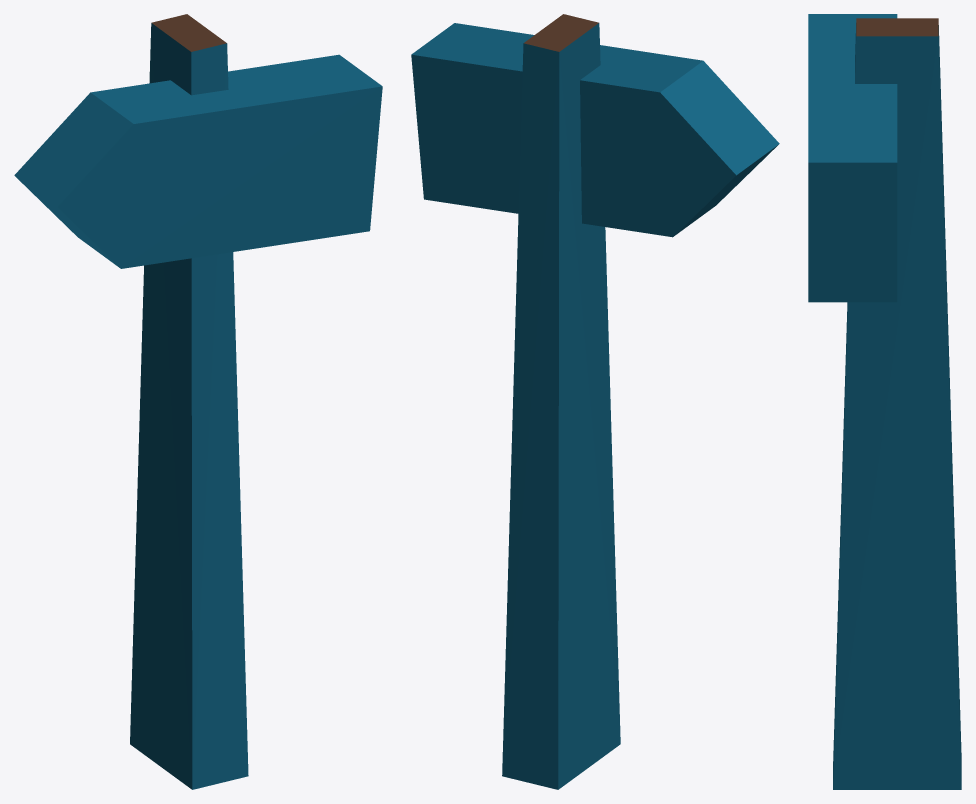
The model's file is dock-sign-sky.glb.
The picture shows the model from 3 angles, left to right: view 1: azimuth 30°, elevation 25°; view 2: azimuth 150°, elevation 25°; view 3: azimuth 270°, elevation 25°; orthographic projection. The views are drawn at different scales.
Parts seen in each view (by area): view 1: dock-sign-sky; view 2: dock-sign-sky; view 3: dock-sign-sky.
Boxes of the visible parts, x1,y1,x2,y2 form: dock-sign-sky: (14, 14, 382, 789); dock-sign-sky: (411, 14, 779, 789); dock-sign-sky: (808, 14, 961, 789).
Size of the model in its own units: 0.73 by 1.56 by 0.29.
